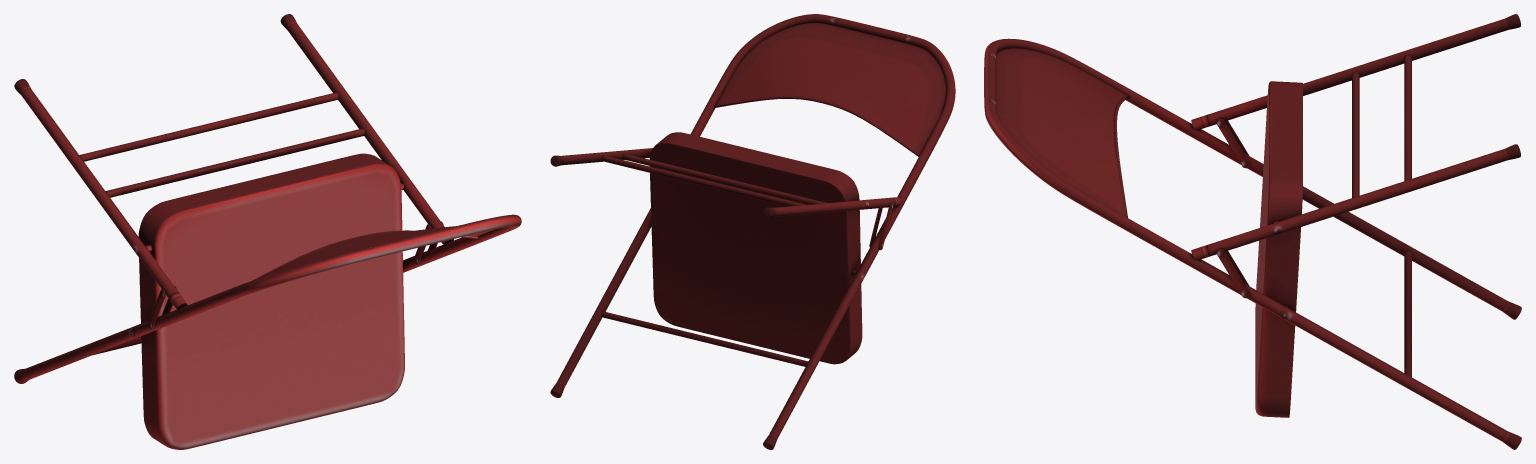
Rendered from 10227_Folding_Chair_metal_v2_Iterations-2.obj.
3 views of the same model, side by side, from view 1: azimuth 30°, elevation 25°; view 2: azimuth 150°, elevation 25°; view 3: azimuth 270°, elevation 25° (orthographic). The views are drawn at different scales.
Visible parts, largest first — view 1: 10227_Folding_Chair_metal_v2_SG; view 2: 10227_Folding_Chair_metal_v2_SG; view 3: 10227_Folding_Chair_metal_v2_SG.
Boxes of the visible parts, x1,y1,x2,y2 form: 10227_Folding_Chair_metal_v2_SG: (14,14,521,449); 10227_Folding_Chair_metal_v2_SG: (550,14,955,449); 10227_Folding_Chair_metal_v2_SG: (984,14,1521,449).
Bounding box in the file's own units: 45.65 × 47.75 × 75.83.
Materials: 1 (1 with a texture image).
